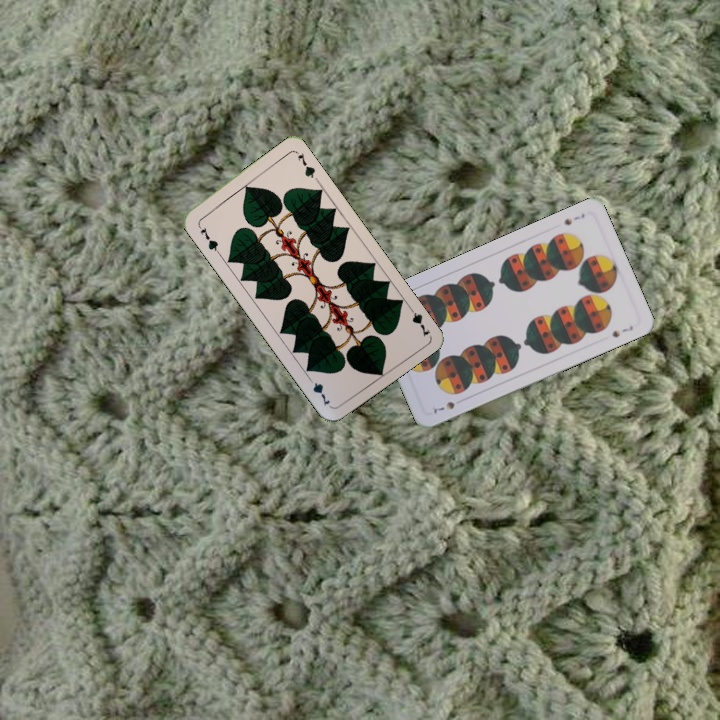G7: (404, 301, 433, 338), (194, 220, 222, 256)
S7: (429, 397, 457, 416), (560, 209, 587, 228)
